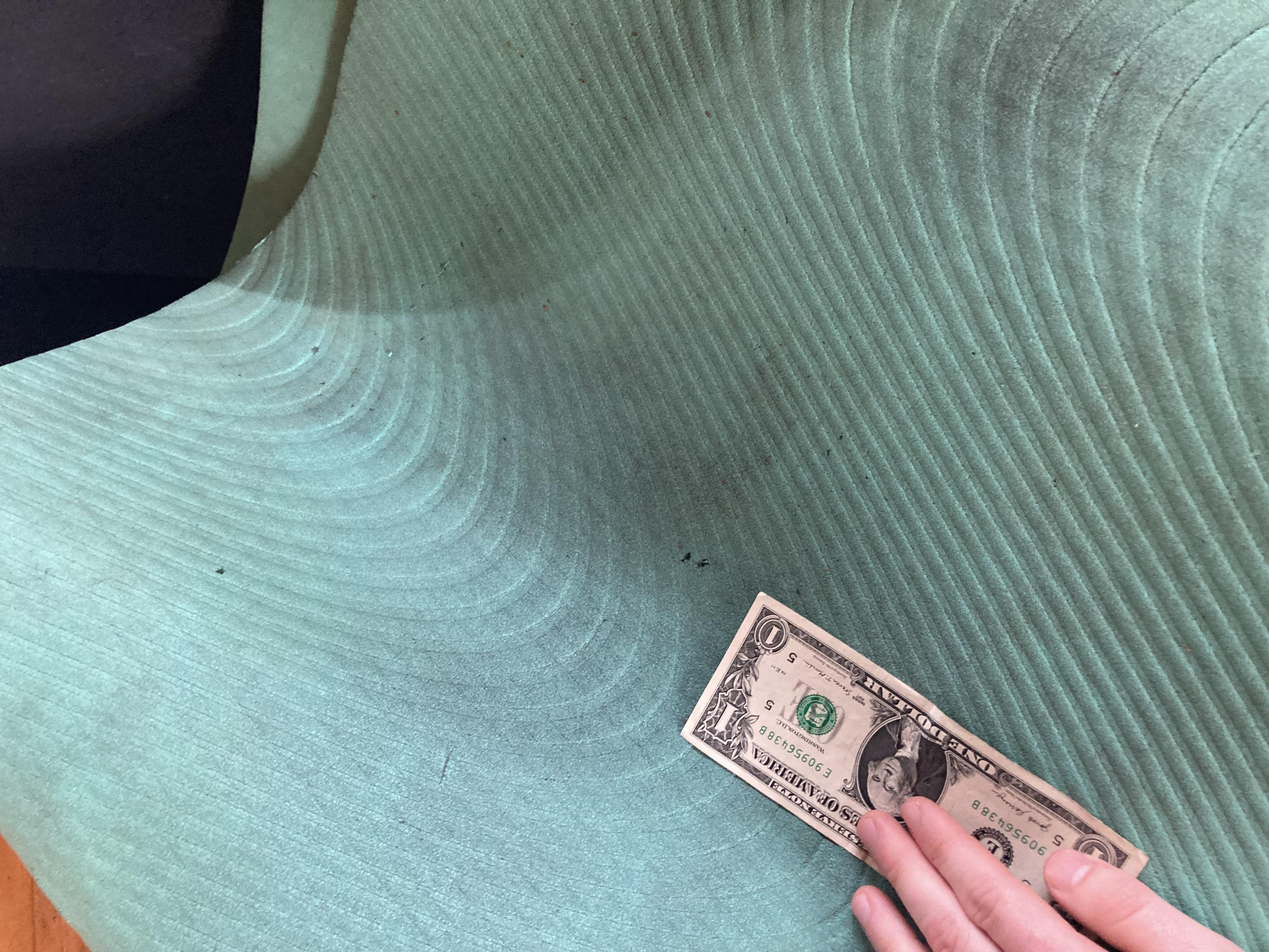one-front: (0, 509, 487, 866)
